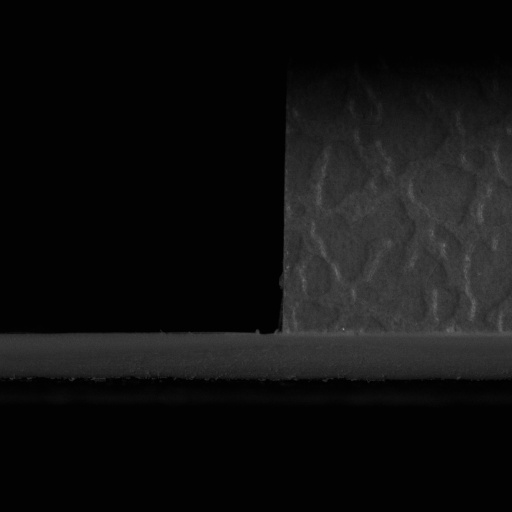changdai: (0, 328, 284, 385)
